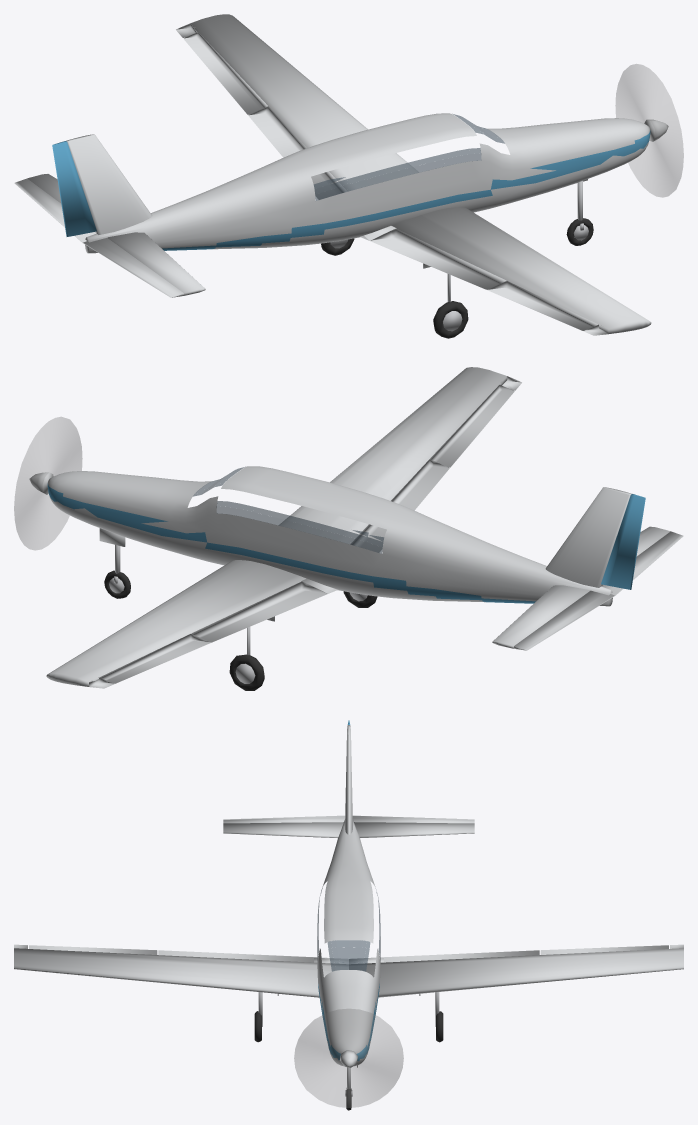
File: sprite_lod1.glb
The picture shows the model from 3 angles, top to bottom: view 1: azimuth 30°, elevation 25°; view 2: azimuth 150°, elevation 25°; view 3: azimuth 270°, elevation 25°; orthographic projection. The views are drawn at different scales.
Parts seen in each view (by area): view 1: fuselage, wing_L, wing_R, prop_1_disc, fin, glass, stabilizer, flap_R_1, elevator, rudder, flap_L_1, aileron_L (+2 smaller); view 2: fuselage, wing_R, wing_L, prop_1_disc, fin, glass, stabilizer, flap_L_1, elevator, rudder, flap_R_1, aileron_R (+2 smaller); view 3: fuselage, wing_L, wing_R, prop_1_disc, stabilizer, elevator, glass, flap_R_1, flap_L_1, fin, aileron_L, aileron_R.
Boxes of the visible parts, x1,y1,x2,y2 form: fuselage: (85, 113, 650, 253); wing_L: (176, 14, 419, 191); wing_R: (360, 207, 651, 335); prop_1_disc: (615, 64, 683, 197); fin: (66, 134, 152, 234); glass: (314, 114, 504, 200); stabilizer: (27, 174, 205, 295); flap_R_1: (370, 228, 506, 289); elevator: (14, 178, 183, 297); rudder: (52, 141, 96, 236); flap_L_1: (248, 106, 347, 199); aileron_L: (183, 32, 267, 114); fuselage: (47, 466, 612, 606); wing_R: (278, 367, 521, 544); wing_L: (46, 560, 337, 688); prop_1_disc: (14, 417, 82, 550); fin: (545, 487, 631, 587); glass: (193, 466, 383, 553); stabilizer: (492, 526, 670, 648); flap_L_1: (191, 581, 327, 642); elevator: (514, 531, 683, 650); rudder: (601, 494, 645, 589); flap_R_1: (350, 459, 449, 552); aileron_R: (430, 385, 514, 467); fuselage: (317, 820, 380, 1065); wing_L: (349, 944, 683, 997); wing_R: (14, 944, 348, 997); prop_1_disc: (294, 1009, 403, 1107); stabilizer: (223, 822, 474, 838); elevator: (223, 815, 474, 823); glass: (317, 887, 380, 971); flap_R_1: (158, 950, 313, 962); flap_L_1: (384, 950, 539, 962); fin: (345, 725, 352, 834); aileron_L: (540, 945, 668, 954); aileron_R: (29, 945, 157, 954).
Bounding box in the file's own units: 12.26 × 4.45 × 14.4.
